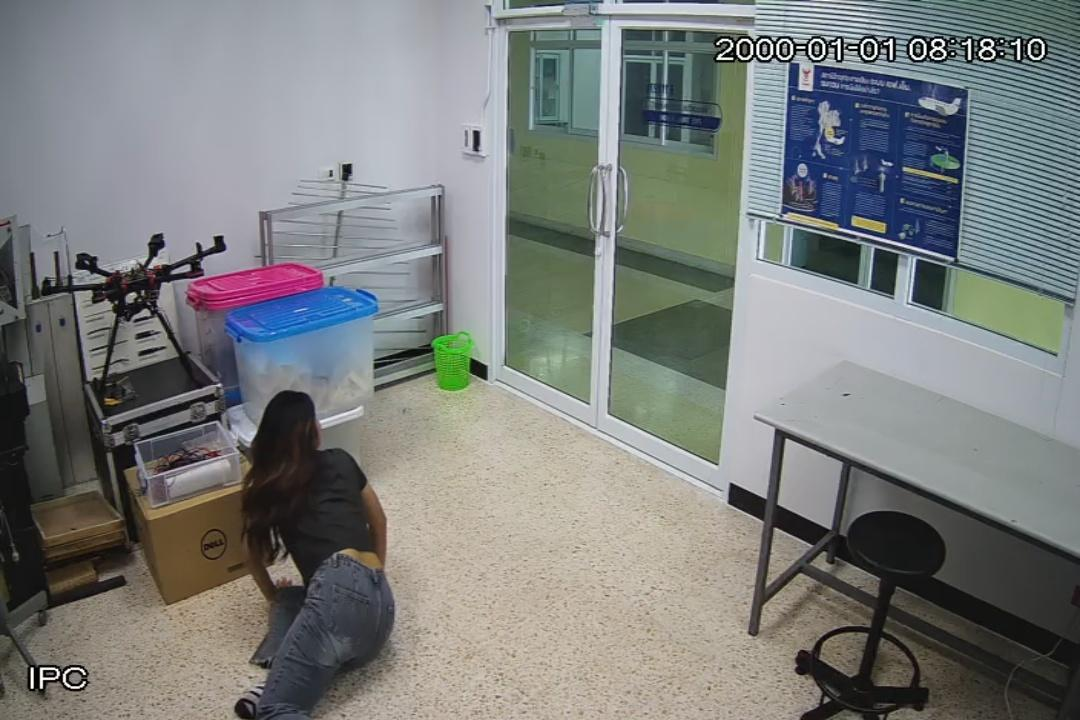fall: (231, 392, 395, 720)
